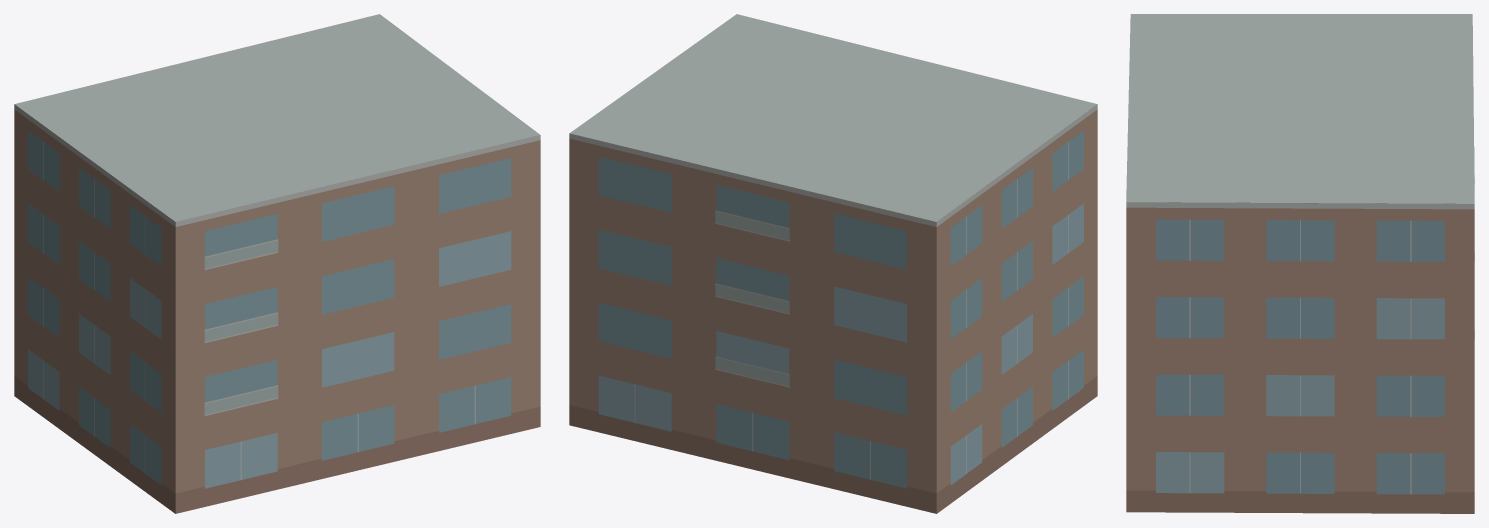
The model's file is survey-upis-32781167.glb.
3 renders of one model, left to right at view 1: azimuth 30°, elevation 25°; view 2: azimuth 150°, elevation 25°; view 3: azimuth 270°, elevation 25°, orthographic. The views are drawn at different scales.
Parts seen in each view (by area): view 1: survey-upis-32781167.tmp; view 2: survey-upis-32781167.tmp; view 3: survey-upis-32781167.tmp.
Boxes of the visible parts, x1,y1,x2,y2 form: survey-upis-32781167.tmp: [14, 14, 540, 513]; survey-upis-32781167.tmp: [569, 14, 1097, 513]; survey-upis-32781167.tmp: [1126, 14, 1474, 513].
Bounding box in the file's own units: 18.14 × 13.8 × 14.08.
